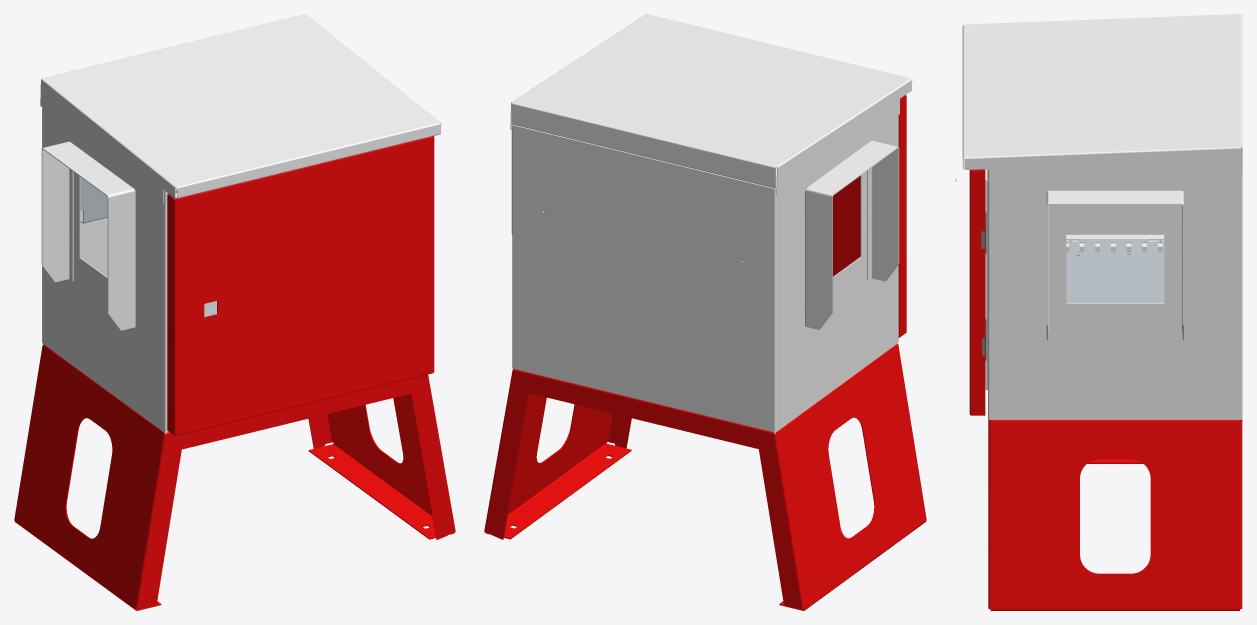
The model's file is visio-rack-kabin.glb.
3 renders of one model, left to right at view 1: azimuth 30°, elevation 25°; view 2: azimuth 150°, elevation 25°; view 3: azimuth 270°, elevation 25°, orthographic. The views are drawn at different scales.
Visible parts, largest first — view 1: body383219, body330965, body335769, body320975, body384775, body377328; view 2: body320975, body330965, body335769, body384775, body383219; view 3: body320975, body330965, body335769, body384775, body383219, body360233, body367078, body368474, body339572.
Part boxes in pixels (box(x1,y1,x2,y2)): body383219: box(167, 136, 434, 435); body330965: box(40, 14, 441, 204); body335769: box(14, 344, 455, 610); body320975: box(42, 107, 168, 431); body384775: box(41, 141, 135, 330); body377328: box(80, 177, 107, 223); body320975: box(512, 115, 898, 431); body330965: box(510, 14, 912, 194); body335769: box(484, 343, 926, 610); body384775: box(805, 140, 899, 329); body383219: box(833, 95, 906, 337); body320975: box(985, 170, 1242, 418); body330965: box(962, 14, 1242, 185); body335769: box(988, 419, 1242, 610); body384775: box(1046, 190, 1183, 339); body383219: box(969, 169, 985, 415); body360233: box(1066, 239, 1164, 302); body367078: box(1119, 260, 1164, 302); body368474: box(1066, 234, 1164, 252); body339572: box(1066, 263, 1087, 302).
Size of the model in its own units: 486 by 636 by 367.
